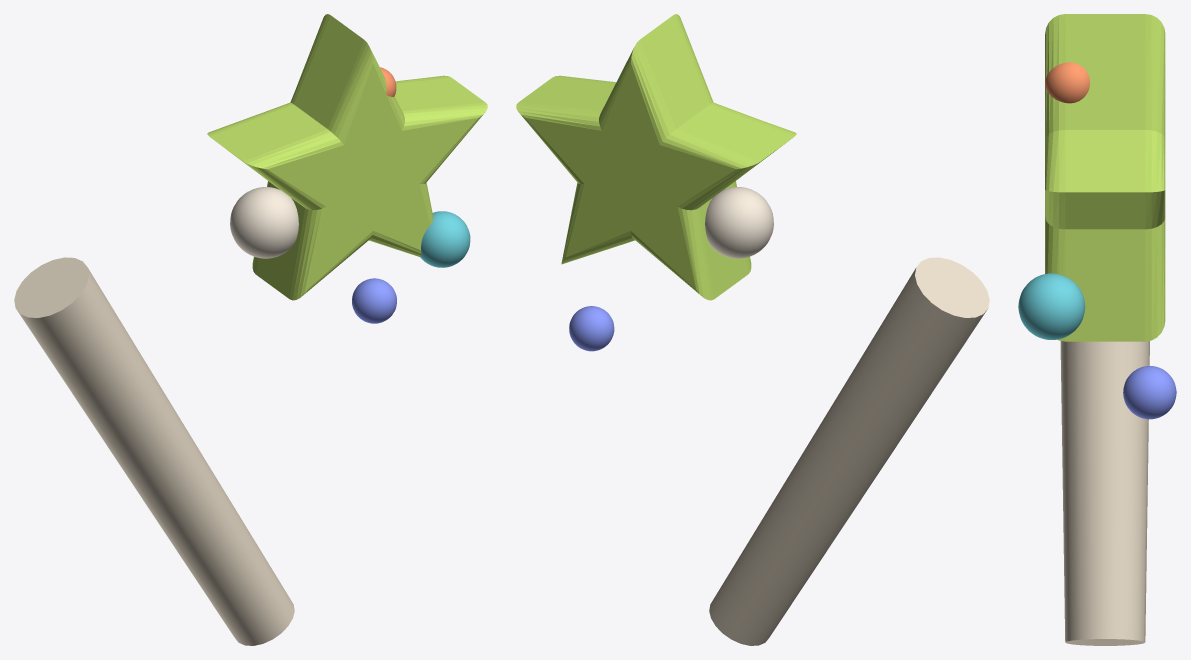
File: studio.glb
The picture shows the model from 3 angles, left to right: view 1: azimuth 30°, elevation 25°; view 2: azimuth 150°, elevation 25°; view 3: azimuth 270°, elevation 25°; orthographic projection. The views are drawn at different scales.
Size of the model in its own units: 1.07 by 1.34 by 0.277.
